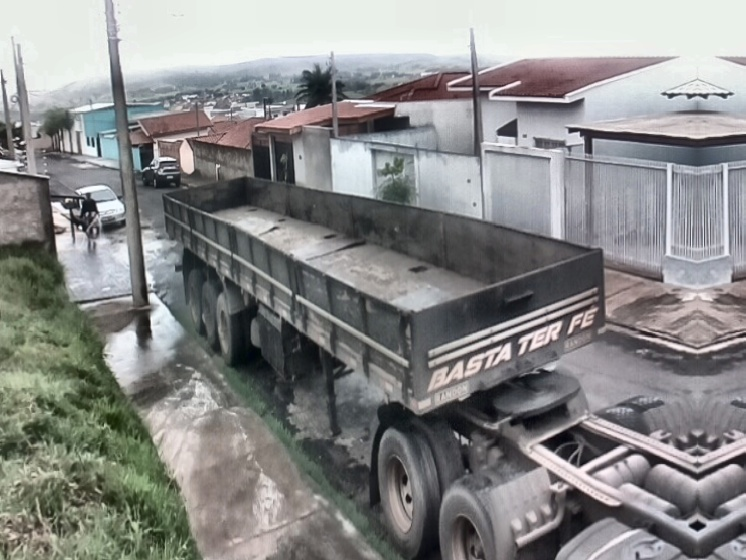person: (77, 191, 105, 249)
